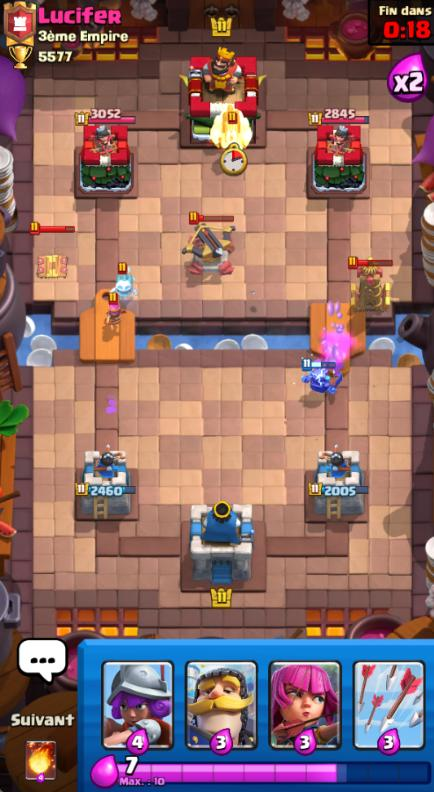archere: (105, 302, 126, 334)
mini_PEKKA: (302, 365, 344, 397)
